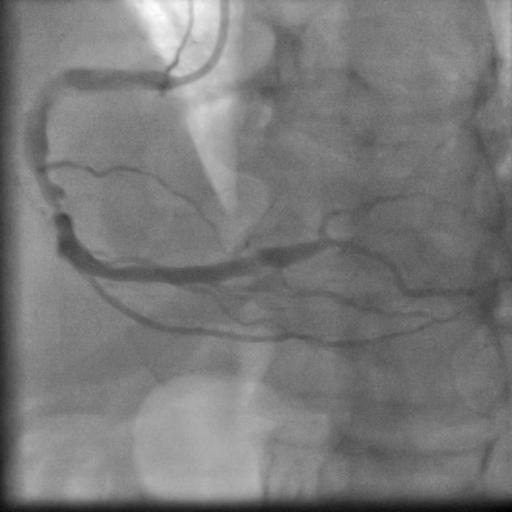Stenosis: (29, 166, 77, 222)
